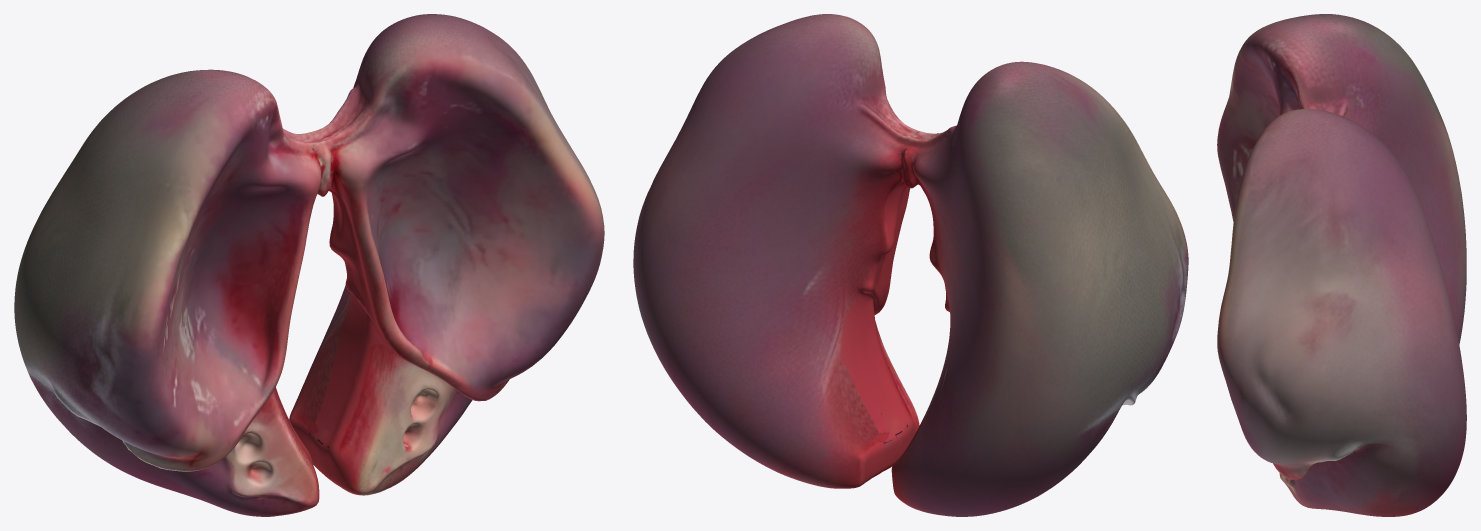
File: vet_v2_path_hip-dysplasia.glb
3 views of the same model, side by side, from view 1: azimuth 30°, elevation 25°; view 2: azimuth 150°, elevation 25°; view 3: azimuth 270°, elevation 25° (orthographic). The views are drawn at different scales.
Parts seen in each view (by area): view 1: model; view 2: model; view 3: model.
Boxes of the visible parts, box(x1,y1,x2,y2) form: model: box(14, 14, 604, 516); model: box(633, 14, 1188, 516); model: box(1217, 14, 1466, 516).
Size of the model in its own units: 1.9 by 1.54 by 0.8578.
Materials: 1 (1 with a texture image).
